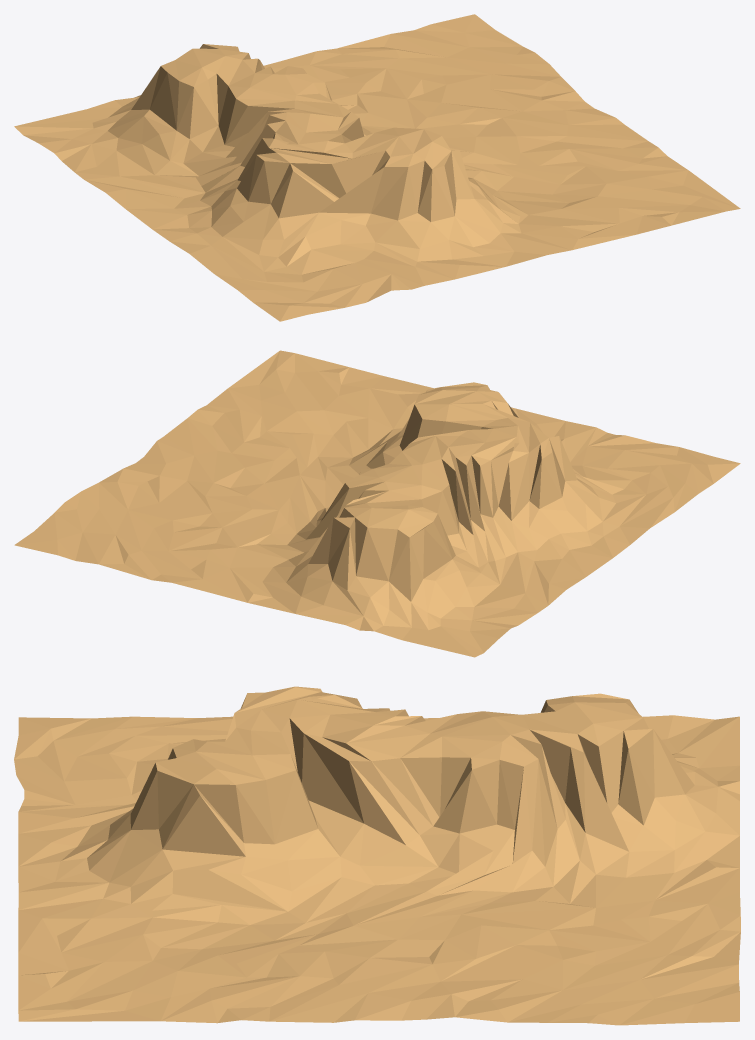
Rendered from landscape.05.fbx.
3 views of the same model, one above another, from view 1: azimuth 30°, elevation 25°; view 2: azimuth 150°, elevation 25°; view 3: azimuth 270°, elevation 25° (orthographic). The views are drawn at different scales.
Visible parts, largest first — view 1: landscape.05; view 2: landscape.05; view 3: landscape.05.
Boxes of the visible parts, x1,y1,x2,y2 form: landscape.05: [14, 14, 740, 321]; landscape.05: [14, 350, 740, 657]; landscape.05: [14, 686, 740, 1025].
Bounding box in the file's own units: 3407 × 548 × 3386.
